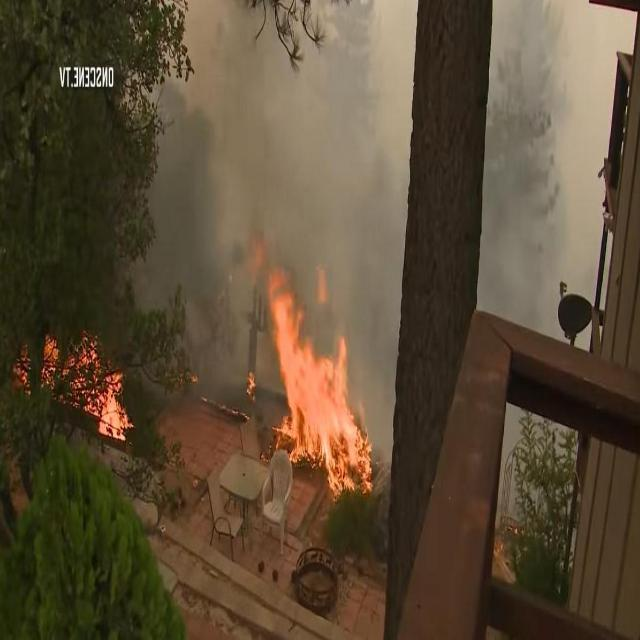fire: (265, 285, 379, 494), (45, 341, 127, 439)
